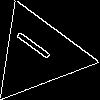I: (13, 29, 61, 68)
